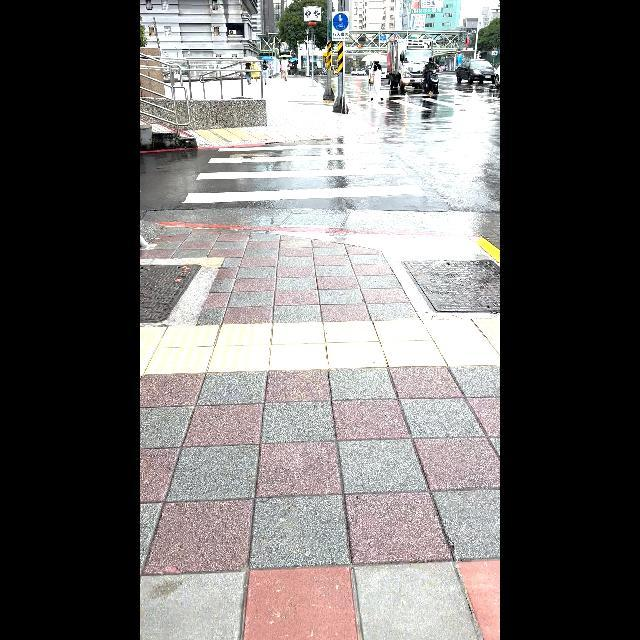sidewalk: (171, 132, 476, 228)
